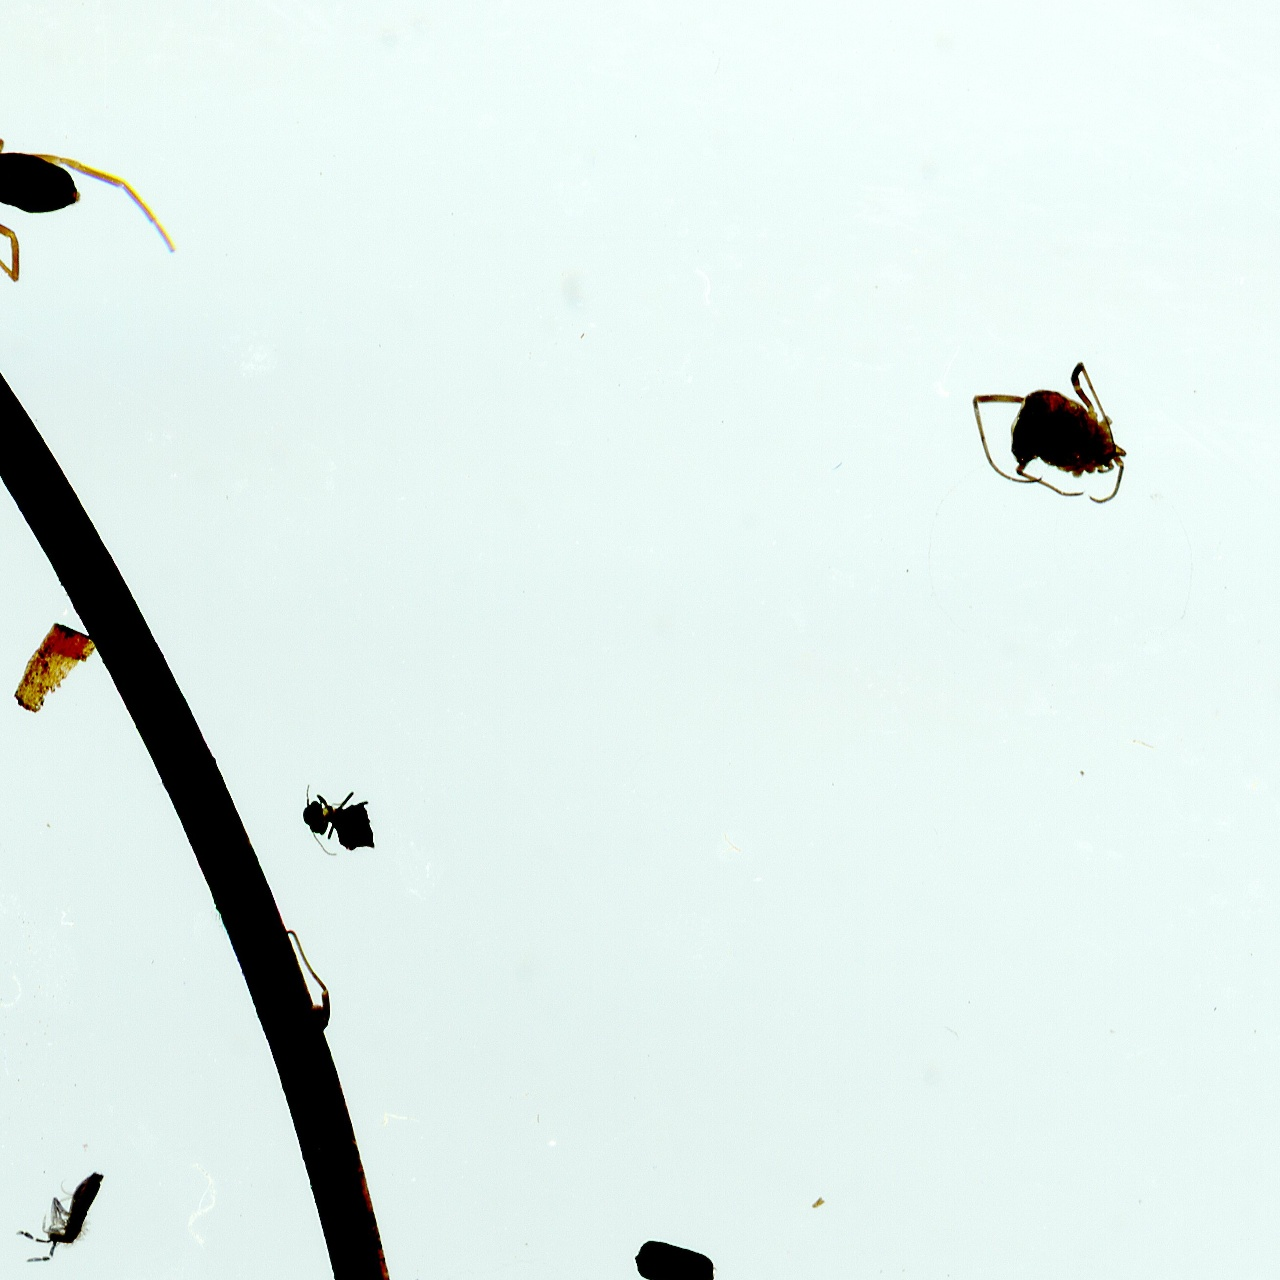arthropod: (0, 83, 194, 301), (952, 351, 1139, 527), (1, 1136, 125, 1280), (296, 777, 380, 859)
